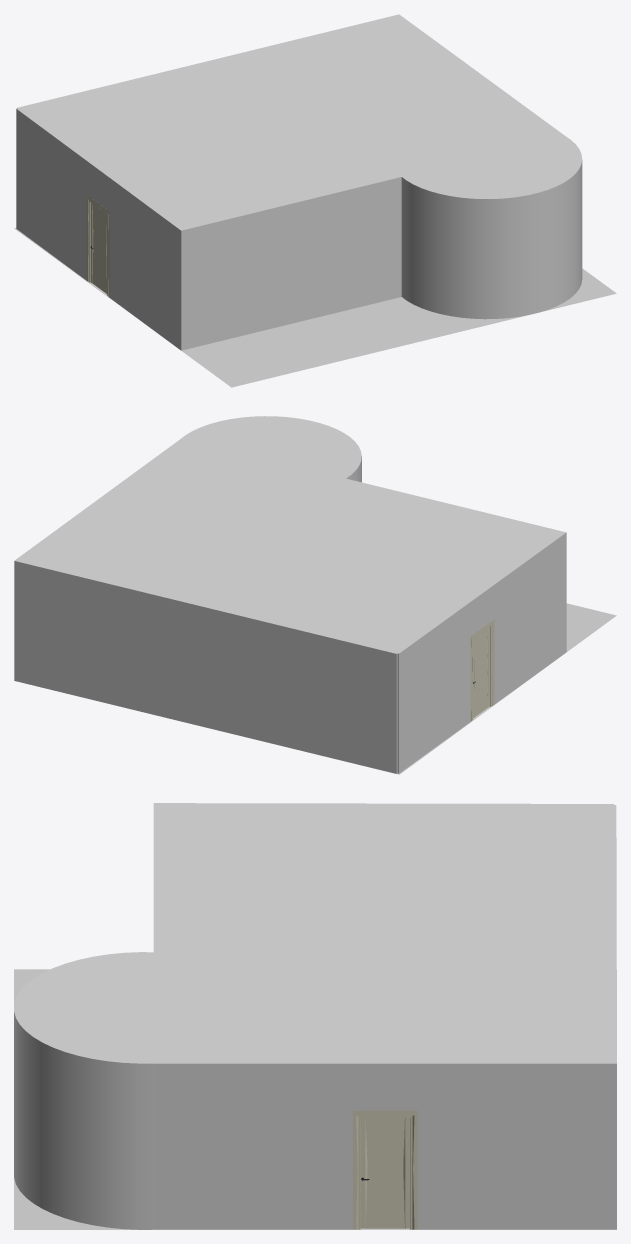
The model's file is room3.fbx.
3 renders of one model, top to bottom at view 1: azimuth 30°, elevation 25°; view 2: azimuth 150°, elevation 25°; view 3: azimuth 270°, elevation 25°, orthographic. The views are drawn at different scales.
Visible parts, largest first — view 1: r1; view 2: r1; view 3: r1.
Boxes of the visible parts, left/top/right/bottom form: r1: left=14, top=14, right=616, bottom=387; r1: left=14, top=416, right=616, bottom=774; r1: left=14, top=803, right=616, bottom=1229.
Bounding box in the file's own units: 100797 × 30000 × 98590.
